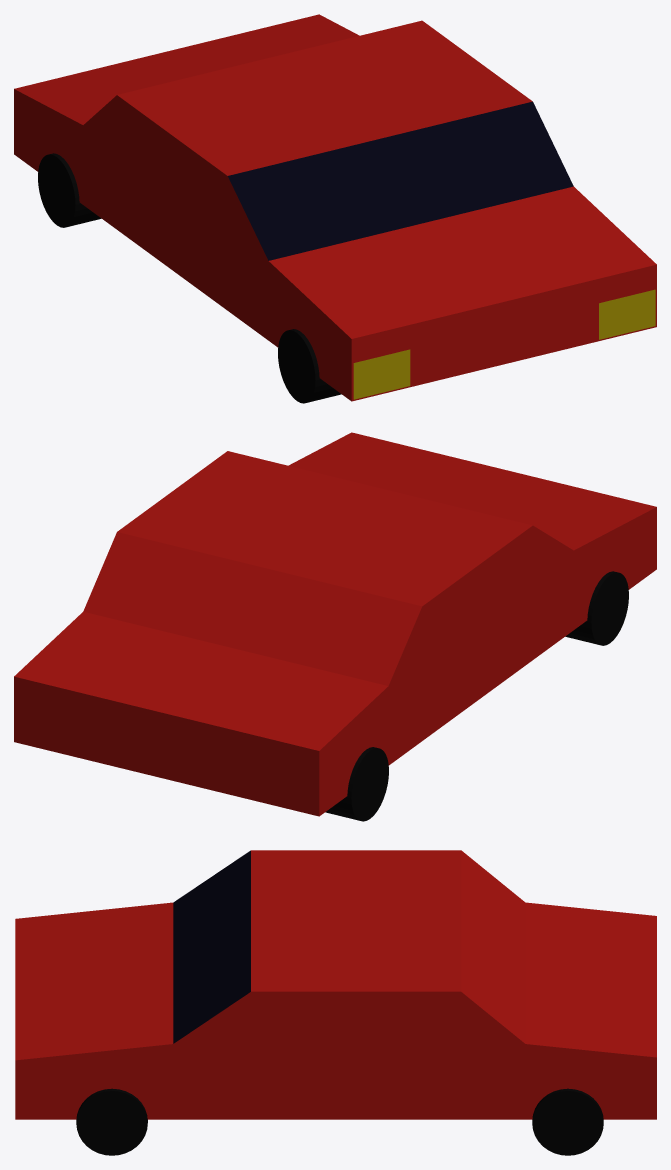
Rendered from car.obj.
3 renders of one model, top to bottom at view 1: azimuth 30°, elevation 25°; view 2: azimuth 150°, elevation 25°; view 3: azimuth 270°, elevation 25°, orthographic. The views are drawn at different scales.
Visible parts, largest first — view 1: Cube, 円柱.002, 円柱.003, 平面, 平面.001; view 2: Cube, 円柱.003, 円柱.002; view 3: Cube, 円柱, 円柱.001.
Part boxes in pixels (left/top/right/bottom): Cube: left=14, top=14, right=656, bottom=401; 円柱.002: left=38, top=153, right=101, bottom=227; 円柱.003: left=278, top=329, right=341, bottom=403; 平面: left=353, top=349, right=410, bottom=399; 平面.001: left=599, top=289, right=655, bottom=339; Cube: left=14, top=432, right=656, bottom=816; 円柱.003: left=565, top=571, right=628, bottom=645; 円柱.002: left=325, top=747, right=388, bottom=821; Cube: left=15, top=850, right=656, bottom=1119; 円柱: left=76, top=1088, right=147, bottom=1155; 円柱.001: left=532, top=1088, right=603, bottom=1155.
Bounding box in the file's own units: 1.07 × 0.5566 × 2.
